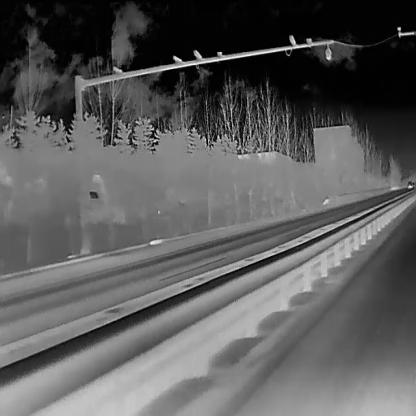car: (406, 180, 412, 188)
